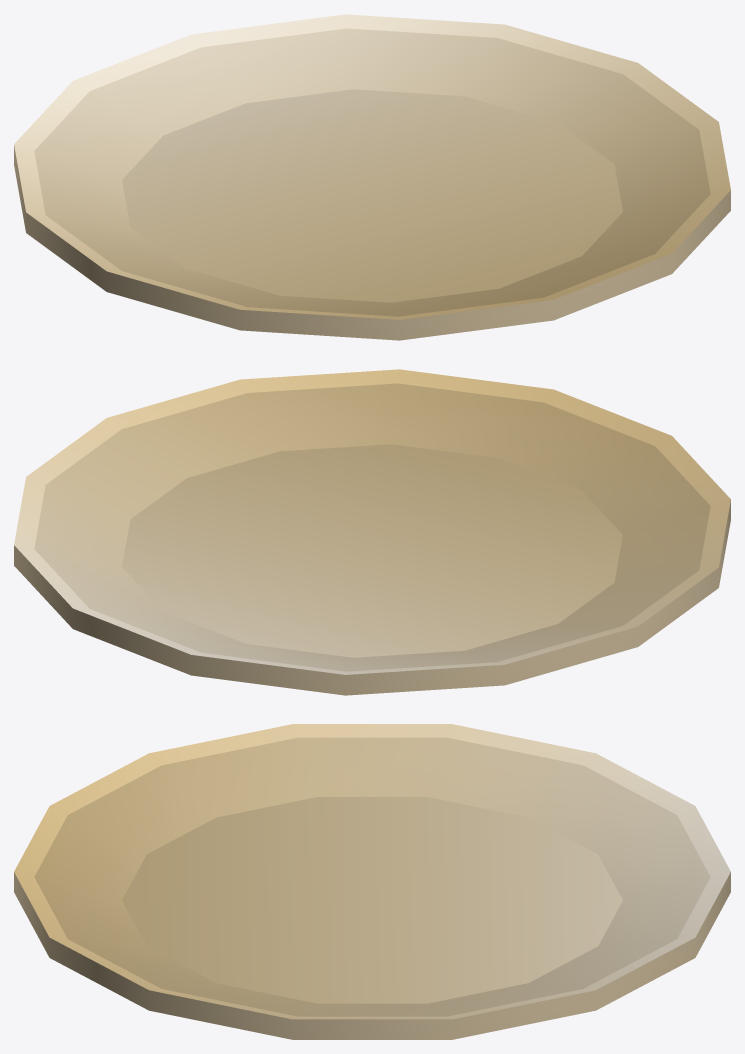
Rendered from Plate.fbx.
3 views of the same model, one above another, from view 1: azimuth 30°, elevation 25°; view 2: azimuth 150°, elevation 25°; view 3: azimuth 270°, elevation 25° (orthographic).
Visible parts, largest first — view 1: Plate; view 2: Plate; view 3: Plate.
Boxes of the visible parts, x1,y1,x2,y2 form: Plate: (14,14,730,340); Plate: (14,369,730,695); Plate: (14,724,730,1039).
Size of the model in its own units: 0.5131 by 0.0397 by 0.5263.
